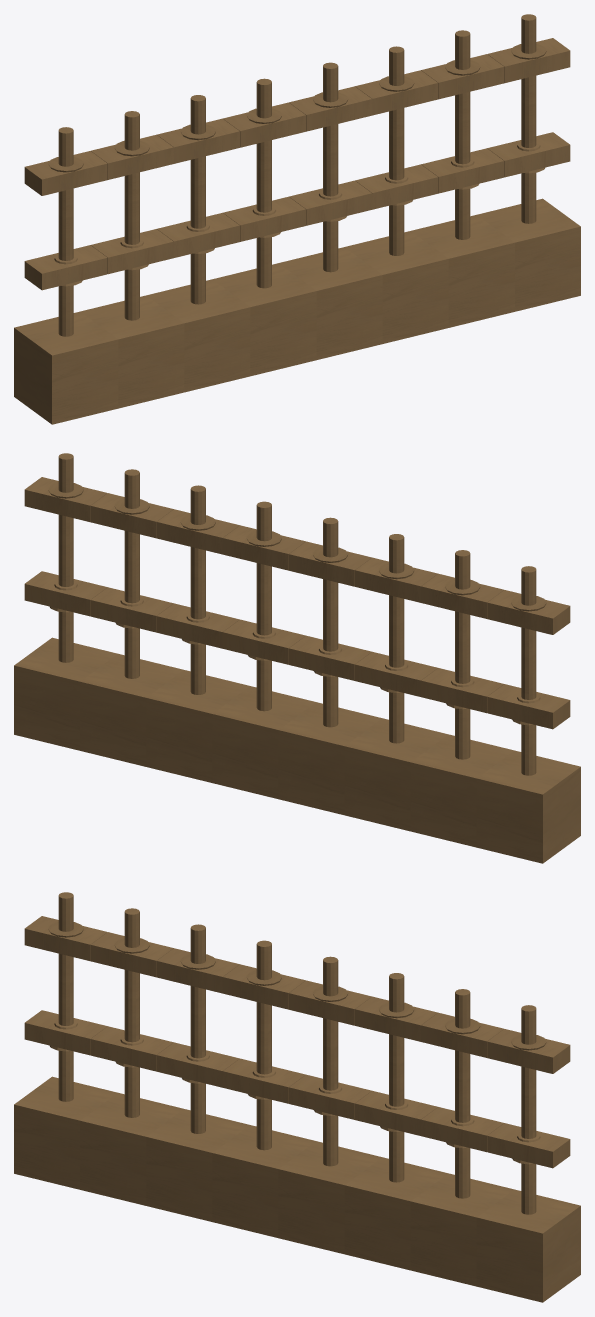
File: Railingx8.glb
3 views of the same model, one above another, from view 1: azimuth 30°, elevation 25°; view 2: azimuth 150°, elevation 25°; view 3: azimuth 330°, elevation 25° (orthographic).
Parts seen in each view (by area): view 1: Railingx8; view 2: Railingx8; view 3: Railingx8.
Part boxes in pixels (x1=…): Railingx8: x1=14, y1=14, x2=580, y2=424; Railingx8: x1=14, y1=453, x2=580, y2=863; Railingx8: x1=14, y1=892, x2=580, y2=1302.
Bounding box in the file's own units: 16 × 7.88 × 2.
1 material, 1 textured.
